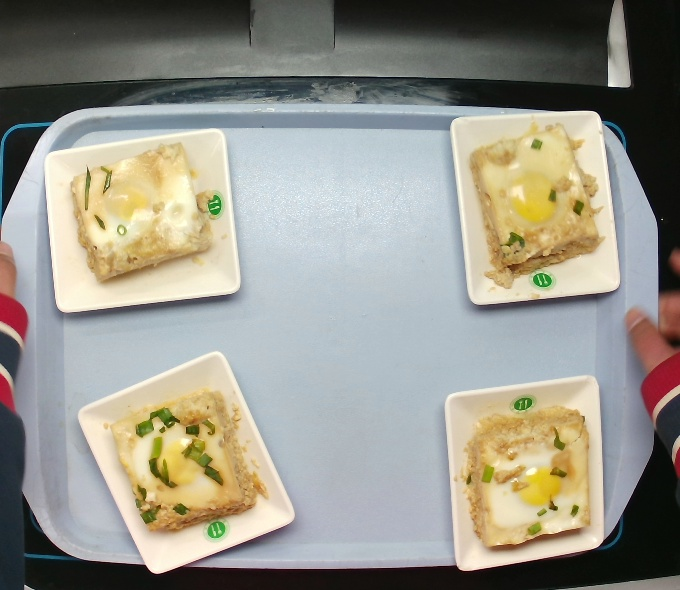wcq-RouMoZhengDan: (465, 125, 614, 287), (114, 383, 264, 540), (459, 393, 596, 557), (64, 152, 220, 280)
